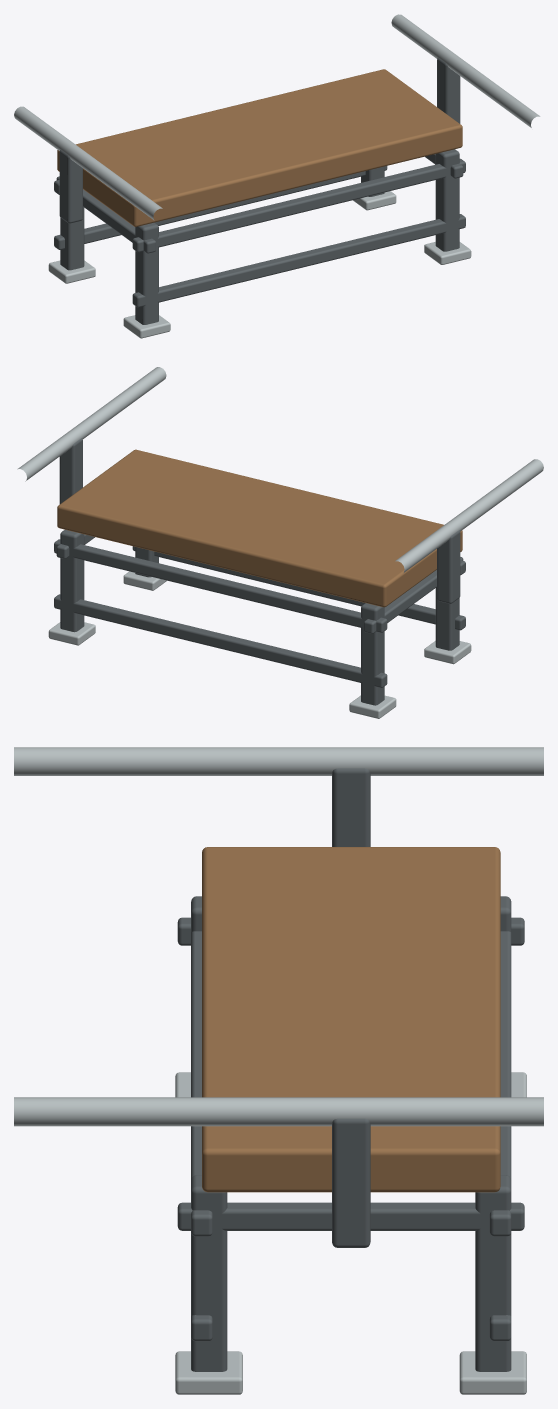
The model's file is glassblowing-studio-and-gallery-glassblower-bench-42d95d6b__29586.glb.
3 renders of one model, top to bottom at view 1: azimuth 30°, elevation 25°; view 2: azimuth 150°, elevation 25°; view 3: azimuth 270°, elevation 25°, orthographic. The views are drawn at different scales.
Parts seen in each view (by area): view 1: glassblower-bench; view 2: glassblower-bench; view 3: glassblower-bench.
Part boxes in pixels (x1,y1,x2,y2): glassblower-bench: (14,14,540,338); glassblower-bench: (17,367,543,718); glassblower-bench: (14,747,543,1394).
Bounding box in the file's own units: 1.79 × 0.7299 × 1.1.
